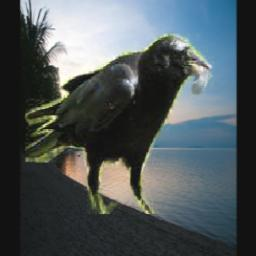Crow: (25, 34, 213, 214)
